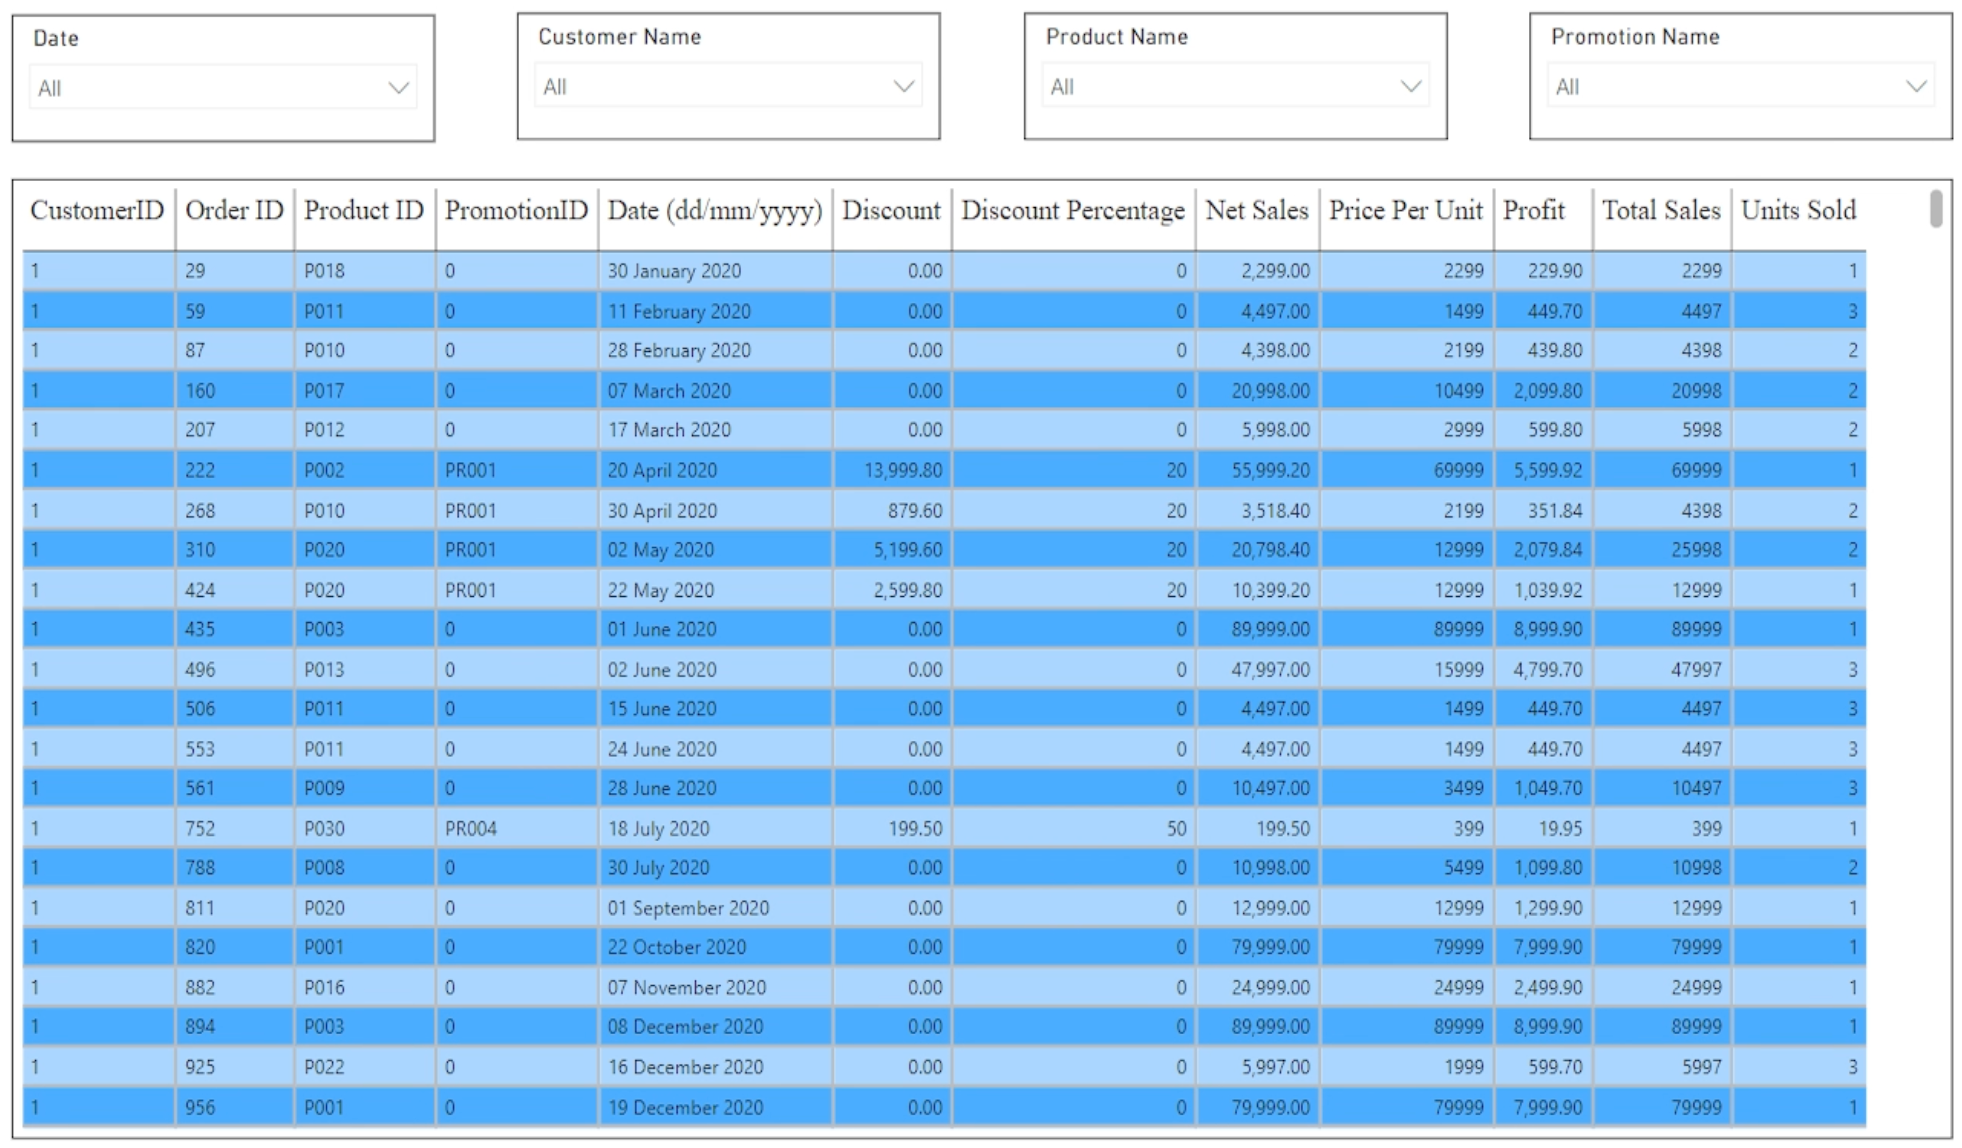

The page's visual inventory and layout, read from the dashboard file:
{"tool":"powerbi","page":{"name":"Table Visual","canvas":[1280,720],"ordinal":4},"visuals":[{"type":"tableEx","fields":{"Values":["Fact Table.CustomerID","Fact Table.Order ID","Fact Table.Product ID","Fact Table.PromotionID","Fact Table.Date (dd/mm/yyyy)","Fact Table.Discount","Fact Table.Discount Percentage","Fact Table.Net Sales   ","Fact Table.Price Per Unit","Fact Table.Profit","Fact Table.Total Sales","Fact Table.Units Sold"]},"box":[22.7,155.4,1182,497.1],"z":0},{"type":"slicer","fields":{"Values":["Date Table 1.Date"]},"box":[22.7,47,283.4,87.4],"z":1},{"type":"slicer","fields":{"Values":["Dim Customers.Customer Name"]},"box":[331.9,47,280.1,87.4],"z":2},{"type":"slicer","fields":{"Values":["Dim Product.Product Name"]},"box":[638,47,293.1,87.4],"z":3},{"type":"slicer","fields":{"Values":["Dim Promotion.Promotion Name"]},"box":[957,47,293.1,87.4],"z":4}]}

Visuals, with their boxes in screenshot pixels (x1, y1, x2, y2):
tableEx - Fact Table.CustomerID x Fact Table.Order ID: rect(10, 177, 1862, 956)
slicer - Date Table 1.Date: rect(10, 7, 454, 144)
slicer - Dim Customers.Customer Name: rect(495, 7, 934, 144)
slicer - Dim Product.Product Name: rect(974, 7, 1434, 144)
slicer - Dim Promotion.Promotion Name: rect(1474, 7, 1934, 144)
